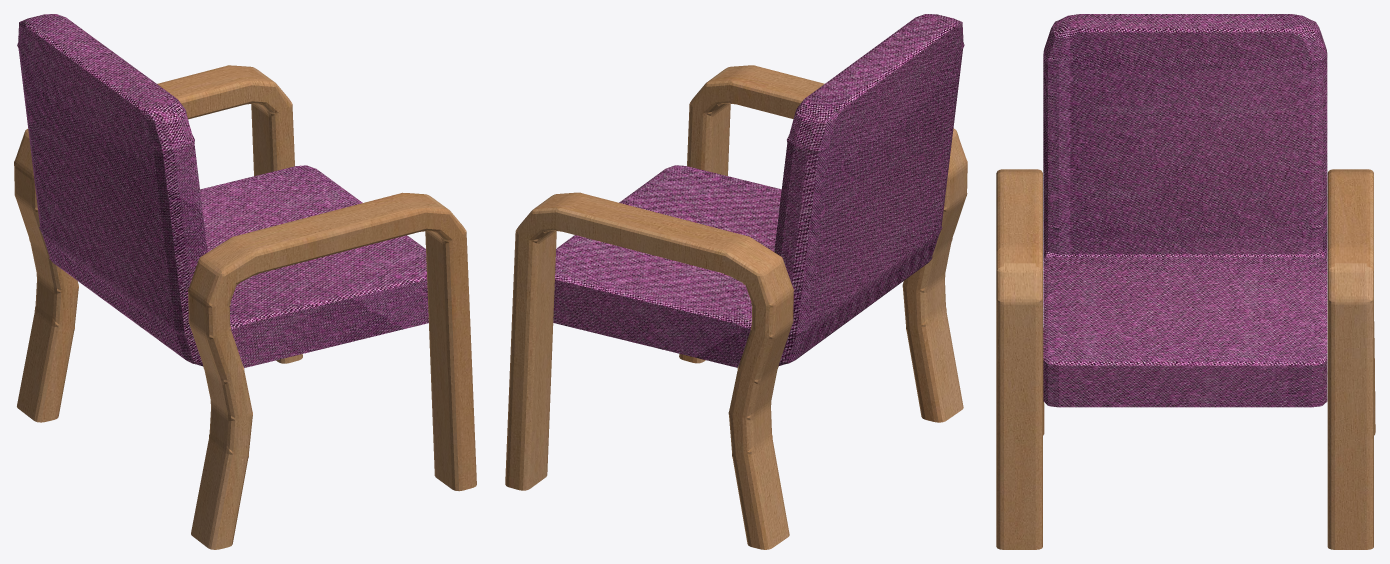
File: Armchair.fbx
The picture shows the model from 3 angles, left to right: view 1: azimuth 30°, elevation 25°; view 2: azimuth 150°, elevation 25°; view 3: azimuth 270°, elevation 25°; orthographic projection. The views are drawn at different scales.
Visible parts, largest first — view 1: Armchair; view 2: Armchair; view 3: Armchair.
Part boxes in pixels (box(x1,y1,x2,y2)): Armchair: box(14, 14, 476, 549); Armchair: box(505, 14, 967, 549); Armchair: box(996, 14, 1375, 549).
Bounding box in the file's own units: 128 × 171 × 147.
